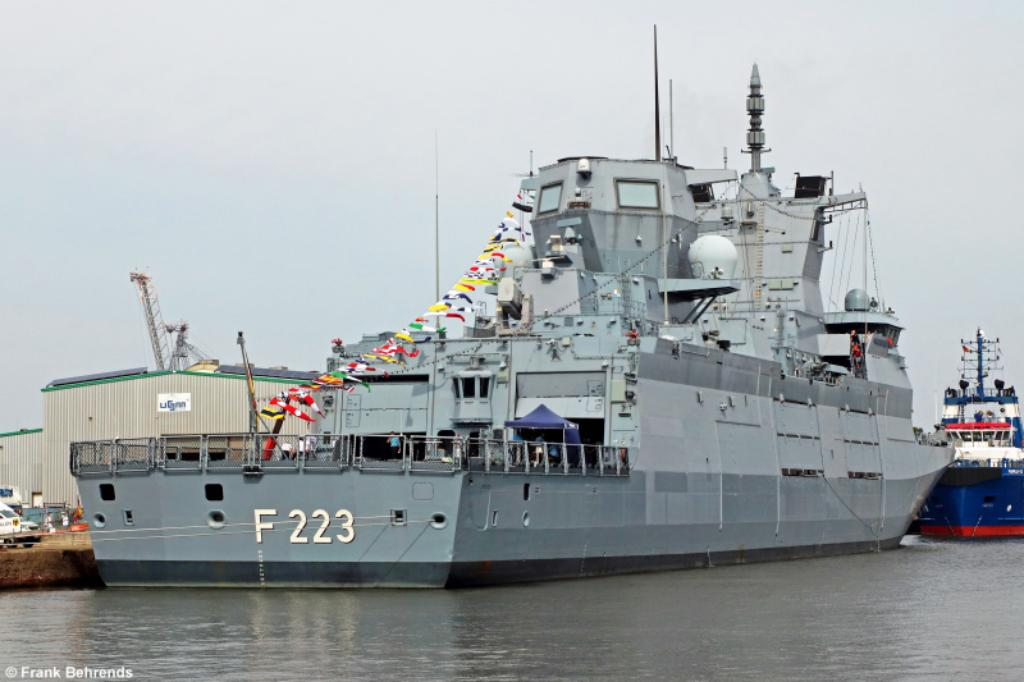Warship: (60, 17, 954, 591)
